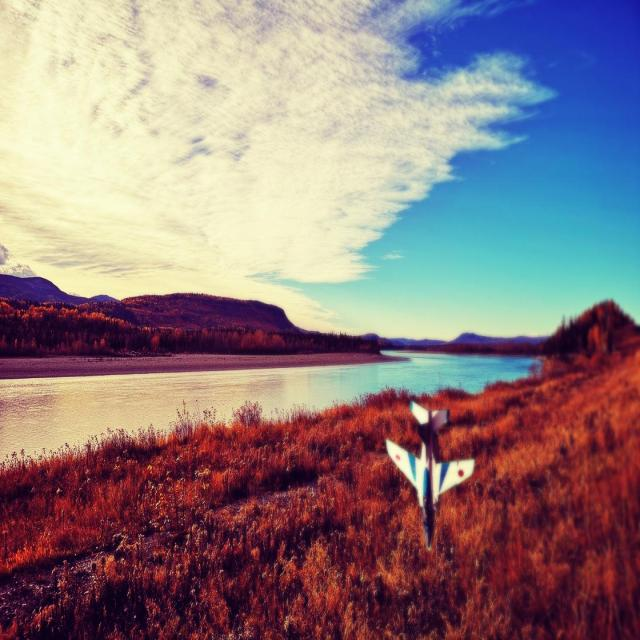airplane: (385, 400, 475, 551)
